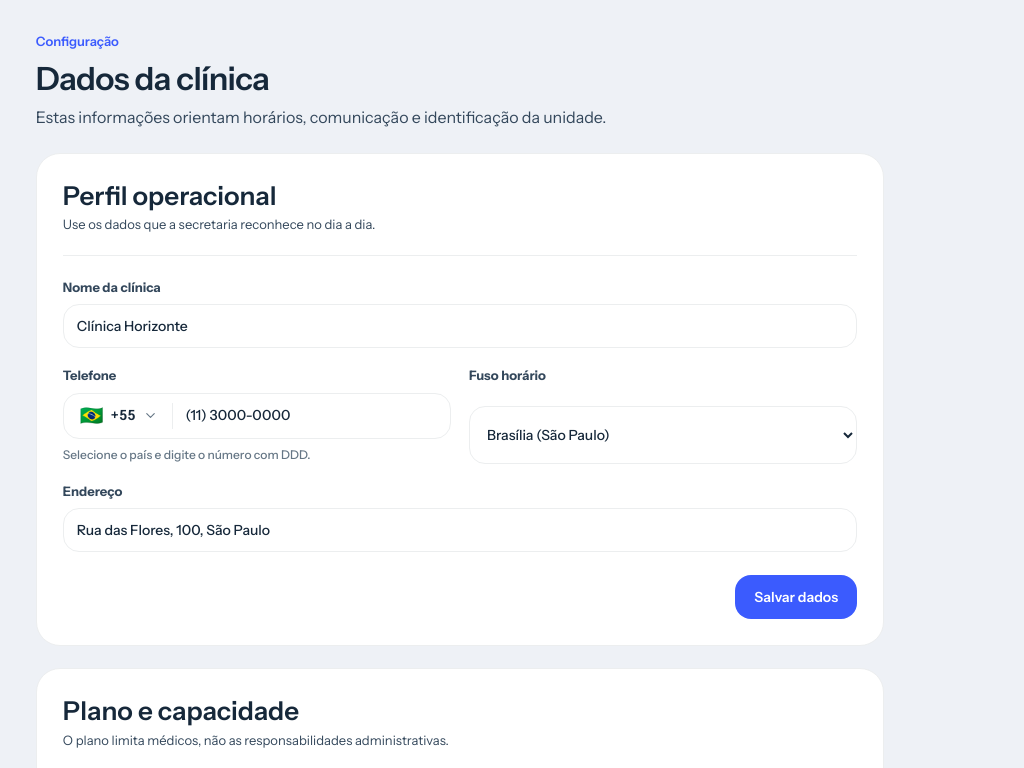
Test: ClinicSettingsPage › não envia um número impossível para o país selecionado
Replace the text in the field labelled "Telefone" with "123" at (311, 416), box [172, 394, 450, 438]
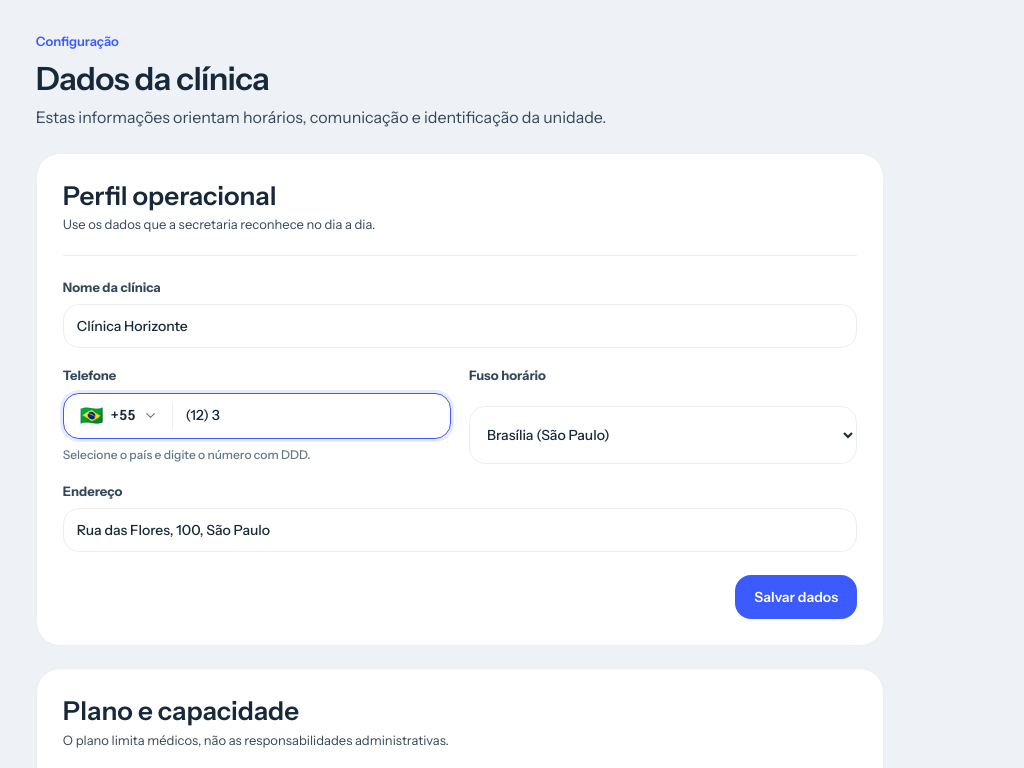
Click the button "Salvar dados".
click(796, 597)  # box [735, 575, 857, 619]
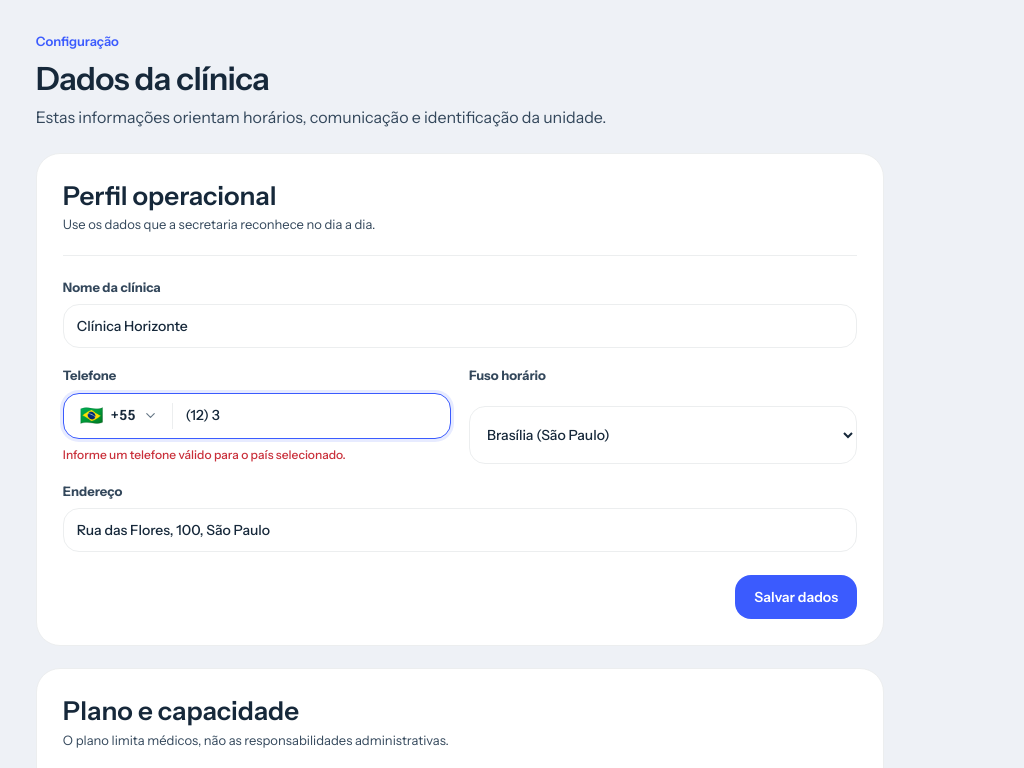
Now the text "Informe um telefone válido para o país selecionado." is shown, box [63, 447, 346, 462]
